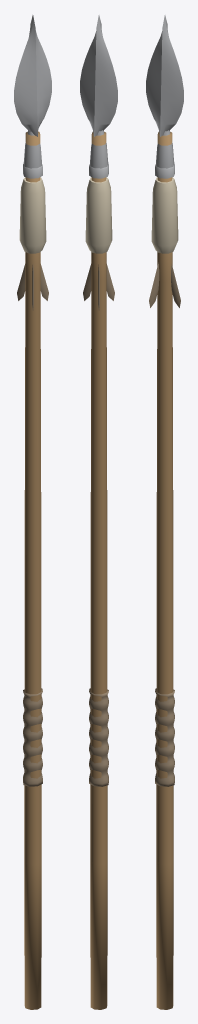
File: shrillshaft-javelin.glb
The picture shows the model from 3 angles, left to right: view 1: azimuth 30°, elevation 25°; view 2: azimuth 150°, elevation 25°; view 3: azimuth 330°, elevation 25°; orthographic projection.
Visible parts, largest first — view 1: shrillshaft-javelin; view 2: shrillshaft-javelin; view 3: shrillshaft-javelin.
Part boxes in pixels (x1,y1,x2,y2): shrillshaft-javelin: (14,15,51,1009); shrillshaft-javelin: (80,15,117,1009); shrillshaft-javelin: (146,15,183,1009).
Size of the model in its own units: 0.1294 by 3.24 by 0.0954.
